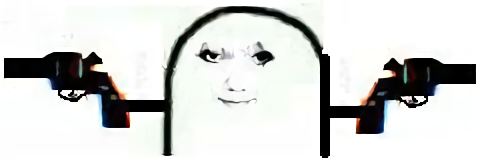dragon: (197, 42, 277, 108)
